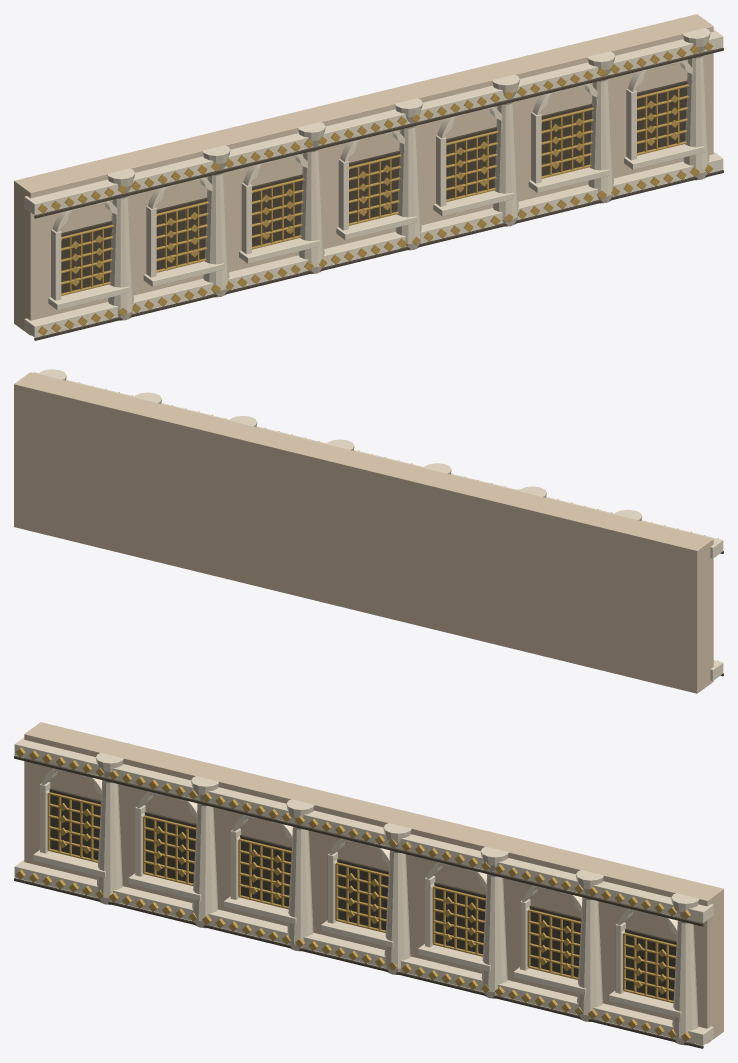
File: precinct-wall-v1.glb
3 renders of one model, top to bottom at view 1: azimuth 30°, elevation 25°; view 2: azimuth 150°, elevation 25°; view 3: azimuth 330°, elevation 25°, orthographic.
Visible parts, largest first — view 1: Mission1_precinct-wall; view 2: Mission1_precinct-wall; view 3: Mission1_precinct-wall.
Boxes of the visible parts, <box> form: Mission1_precinct-wall: <box>14,14,723,340</box>; Mission1_precinct-wall: <box>14,369,723,693</box>; Mission1_precinct-wall: <box>14,722,723,1048</box>.
Bounding box in the file's own units: 19.15 × 3.8 × 1.25.
